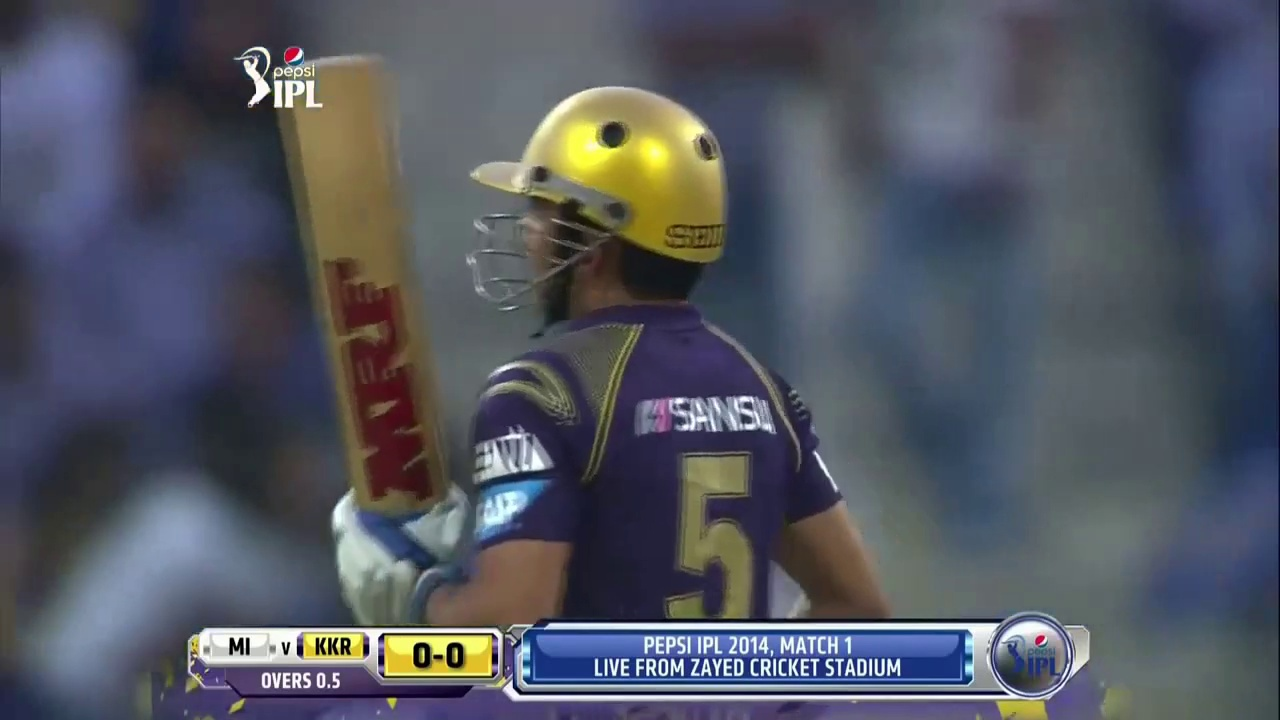bat: (275, 111, 452, 485)
